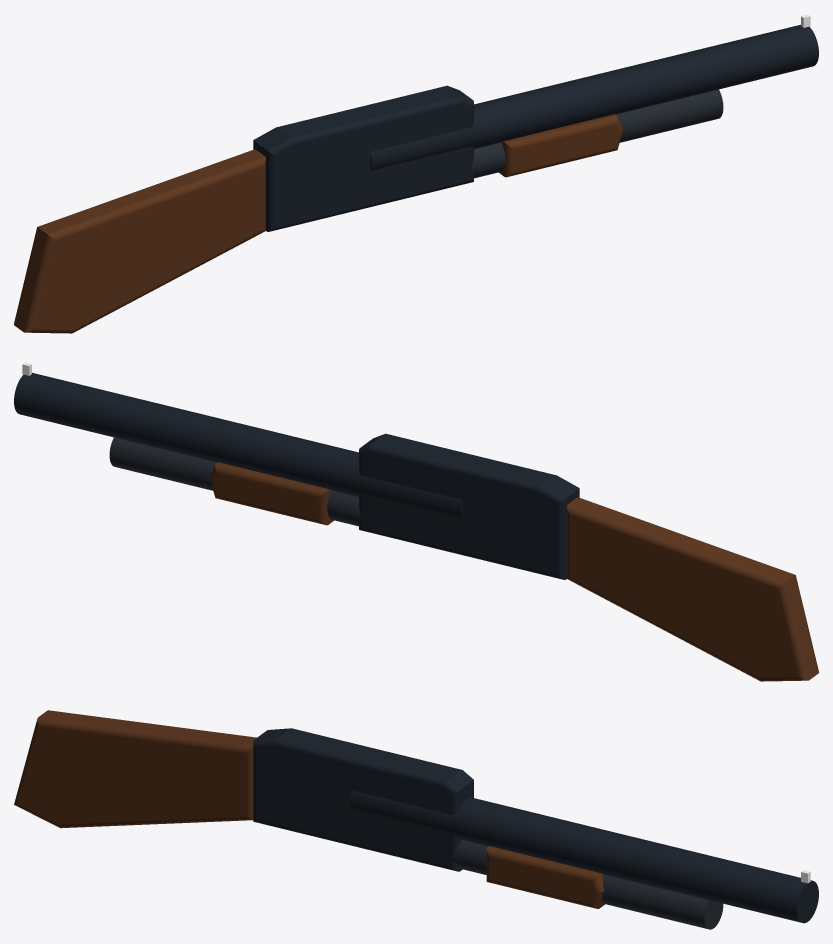
File: shotgun.glb
3 views of the same model, one above another, from view 1: azimuth 30°, elevation 25°; view 2: azimuth 150°, elevation 25°; view 3: azimuth 330°, elevation 25° (orthographic).
Parts seen in each view (by area): view 1: GunStock, GunReceiver, GunBarrel, GunPump, GunMagTube; view 2: GunStock, GunReceiver, GunBarrel, GunPump, GunMagTube; view 3: GunStock, GunReceiver, GunBarrel, GunMagTube, GunPump.
Part boxes in pixels (<box>): GunStock: <box>14,149,265,333</box>; GunReceiver: <box>253,85,473,231</box>; GunBarrel: <box>370,24,818,170</box>; GunPump: <box>498,114,622,177</box>; GunMagTube: <box>471,89,723,178</box>; GunStock: <box>567,497,818,681</box>; GunReceiver: <box>359,433,579,579</box>; GunBarrel: <box>14,372,462,518</box>; GunPump: <box>210,462,334,525</box>; GunMagTube: <box>109,437,361,526</box>; GunStock: <box>14,710,256,828</box>; GunReceiver: <box>253,728,473,871</box>; GunBarrel: <box>349,790,818,923</box>; GunMagTube: <box>452,840,723,929</box>; GunPump: <box>486,846,604,908</box>.
Size of the model in its own units: 1.34 by 0.234 by 0.07.
